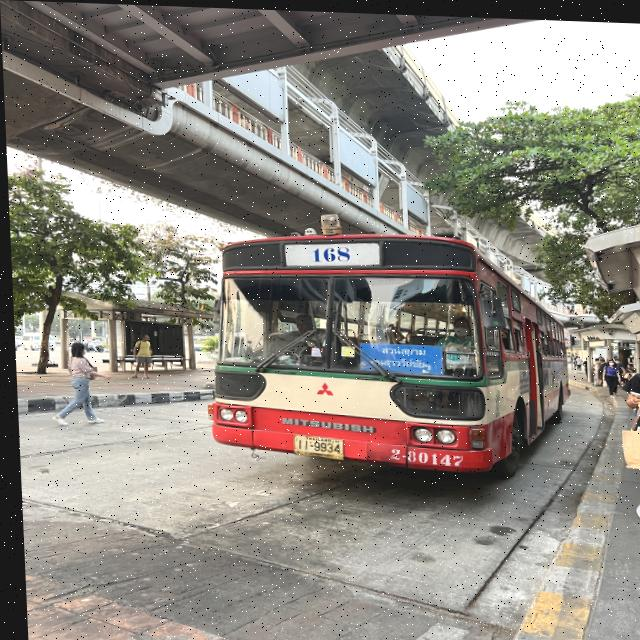BMTA-bus: (204, 231, 567, 473)
Bus Line Number: (299, 241, 353, 264)
Bus Side Number: (382, 443, 461, 466)
Destination Sign: (357, 341, 440, 372)
